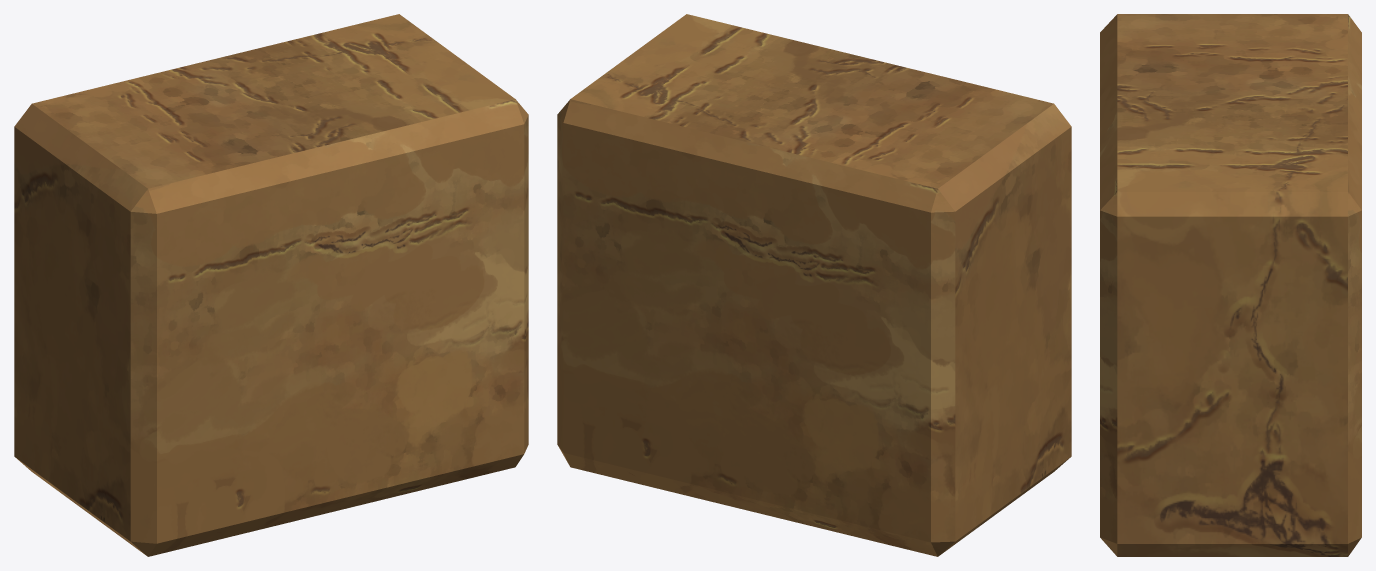
The model's file is Big_Rock.FBX.
3 renders of one model, left to right at view 1: azimuth 30°, elevation 25°; view 2: azimuth 150°, elevation 25°; view 3: azimuth 270°, elevation 25°, orthographic.
Visible parts, largest first — view 1: Big_Rock; view 2: Big_Rock; view 3: Big_Rock.
Boxes of the visible parts, bbox=[...] form: Big_Rock: bbox=[14, 14, 528, 556]; Big_Rock: bbox=[557, 14, 1071, 556]; Big_Rock: bbox=[1100, 14, 1361, 556].
Bounding box in the file's own units: 81.73 × 72.24 × 46.95.
